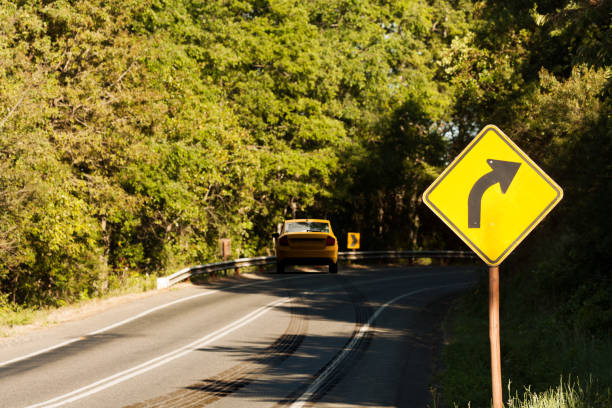car: (274, 218, 338, 275)
right turn: (420, 125, 564, 266), (346, 232, 360, 249)
